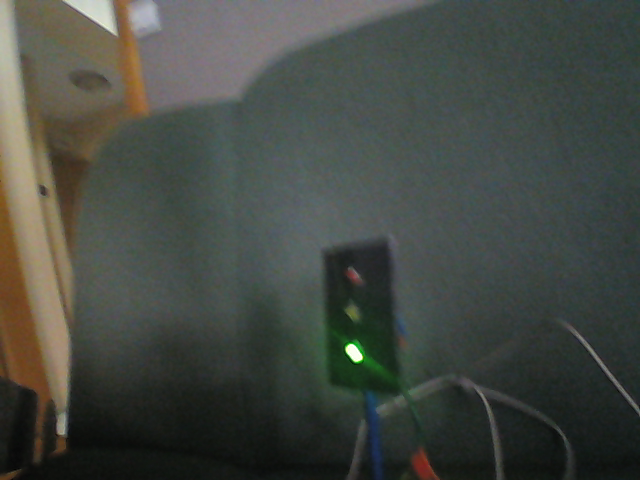green_sign: (316, 245, 404, 396)
